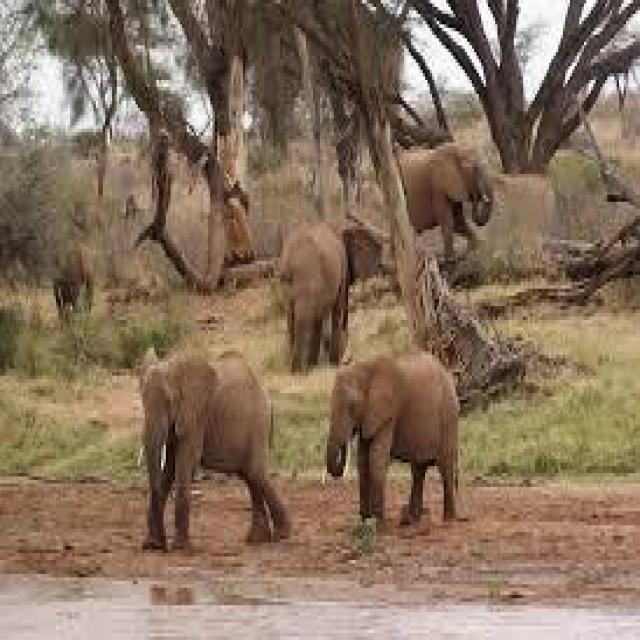Elephant: (133, 338, 292, 539), (318, 344, 460, 526), (278, 212, 388, 351), (394, 142, 498, 250)
